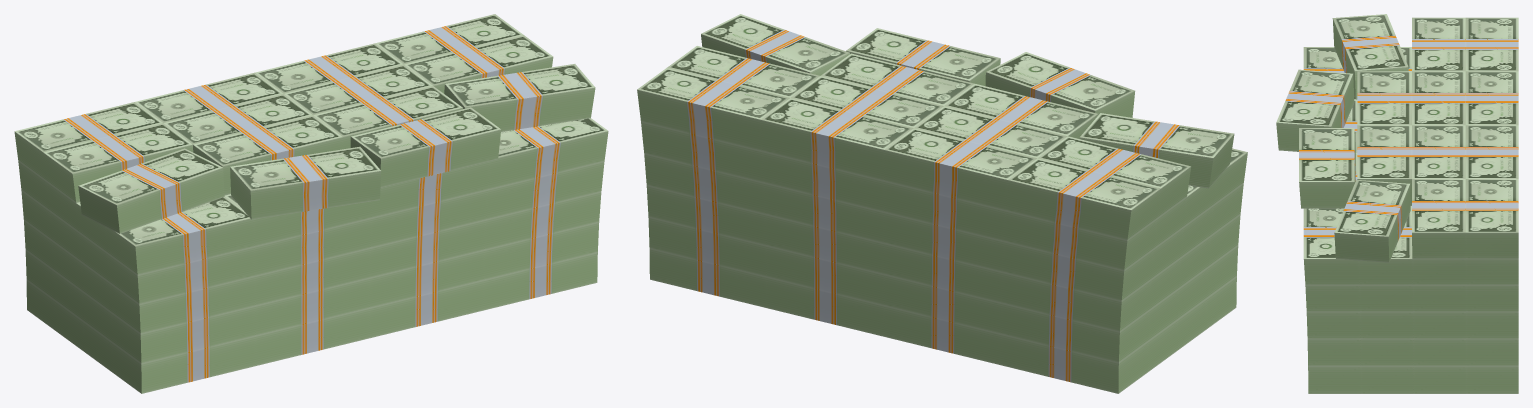
File: BankMoney01_4.FBX
3 renders of one model, left to right at view 1: azimuth 30°, elevation 25°; view 2: azimuth 150°, elevation 25°; view 3: azimuth 270°, elevation 25°, orthographic. The views are drawn at different scales.
Parts seen in each view (by area): view 1: BankMoney01_4; view 2: BankMoney01_4; view 3: BankMoney01_4.
Boxes of the visible parts, left/top/right/bottom form: BankMoney01_4: left=14, top=14, right=608, bottom=393; BankMoney01_4: left=637, top=14, right=1247, bottom=393; BankMoney01_4: left=1276, top=14, right=1518, bottom=393.
Size of what is drawn, in the model's own units: 0.8596 by 0.3 by 0.3954.
